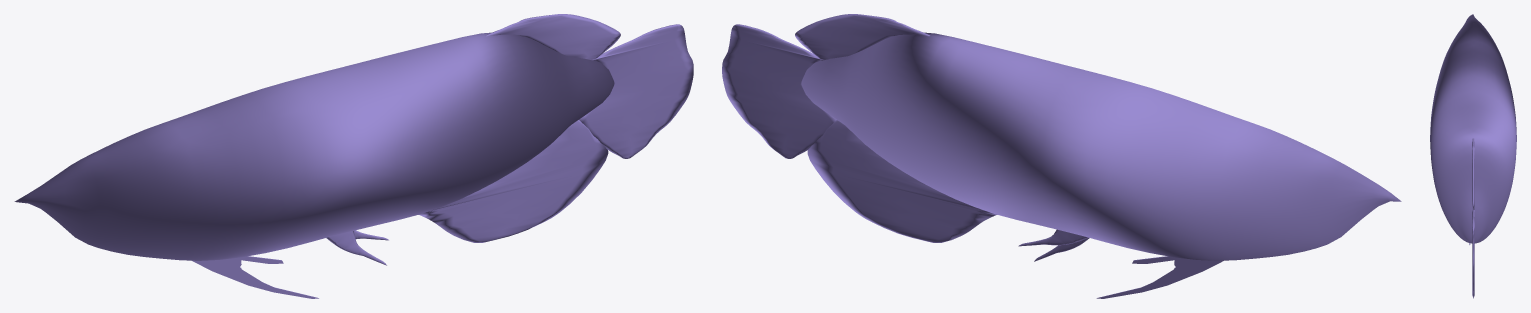
File: ARWANA.obj
3 renders of one model, left to right at view 1: azimuth 30°, elevation 25°; view 2: azimuth 150°, elevation 25°; view 3: azimuth 270°, elevation 25°, orthographic. The views are drawn at different scales.
Visible parts, largest first — view 1: Mesh7 Sphere_3_1 Group1 Model, Mesh3 Group4 Group1 Model, Mesh4 Group5 Group1 Model, Mesh1 Group2 Group1 Model, Mesh6 Group7 Group1 Model, Mesh2 Group3 Group1 Model; view 2: Mesh7 Sphere_3_1 Group1 Model, Mesh3 Group4 Group1 Model, Mesh4 Group5 Group1 Model, Mesh1 Group2 Group1 Model, Mesh6 Group7 Group1 Model, Mesh5 Group6 Group1 Model; view 3: Mesh7 Sphere_3_1 Group1 Model, Mesh4 Group5 Group1 Model, Mesh1 Group2 Group1 Model.
Boxes of the visible parts, x1,y1,x2,y2 form: Mesh7 Sphere_3_1 Group1 Model: [14, 32, 614, 260]; Mesh3 Group4 Group1 Model: [418, 120, 608, 242]; Mesh4 Group5 Group1 Model: [579, 24, 693, 158]; Mesh1 Group2 Group1 Model: [485, 14, 620, 60]; Mesh6 Group7 Group1 Model: [192, 256, 318, 298]; Mesh2 Group3 Group1 Model: [326, 231, 386, 265]; Mesh7 Sphere_3_1 Group1 Model: [801, 32, 1401, 260]; Mesh3 Group4 Group1 Model: [807, 120, 996, 242]; Mesh4 Group5 Group1 Model: [722, 24, 836, 158]; Mesh1 Group2 Group1 Model: [795, 14, 930, 60]; Mesh6 Group7 Group1 Model: [1096, 256, 1223, 298]; Mesh5 Group6 Group1 Model: [1018, 229, 1088, 246]; Mesh7 Sphere_3_1 Group1 Model: [1430, 14, 1516, 243]; Mesh4 Group5 Group1 Model: [1472, 210, 1474, 296]; Mesh1 Group2 Group1 Model: [1472, 138, 1474, 210].
Size of the model in its own units: 0.4871 by 0.1565 by 0.0776.
